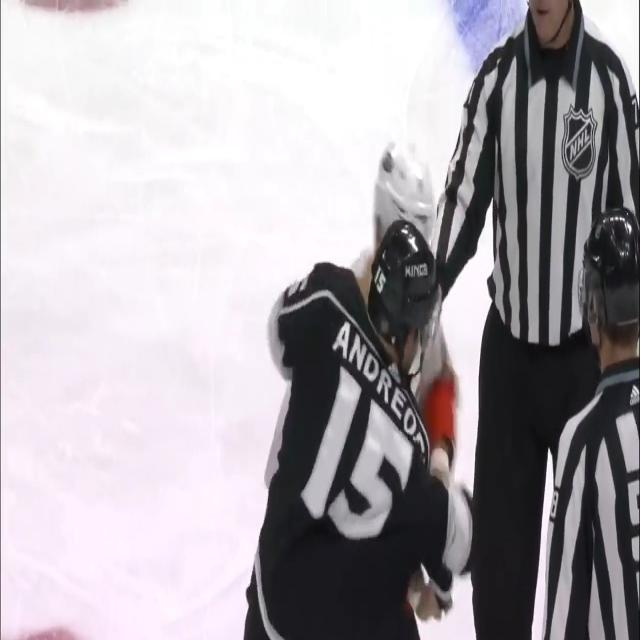fight: (235, 110, 477, 640)
